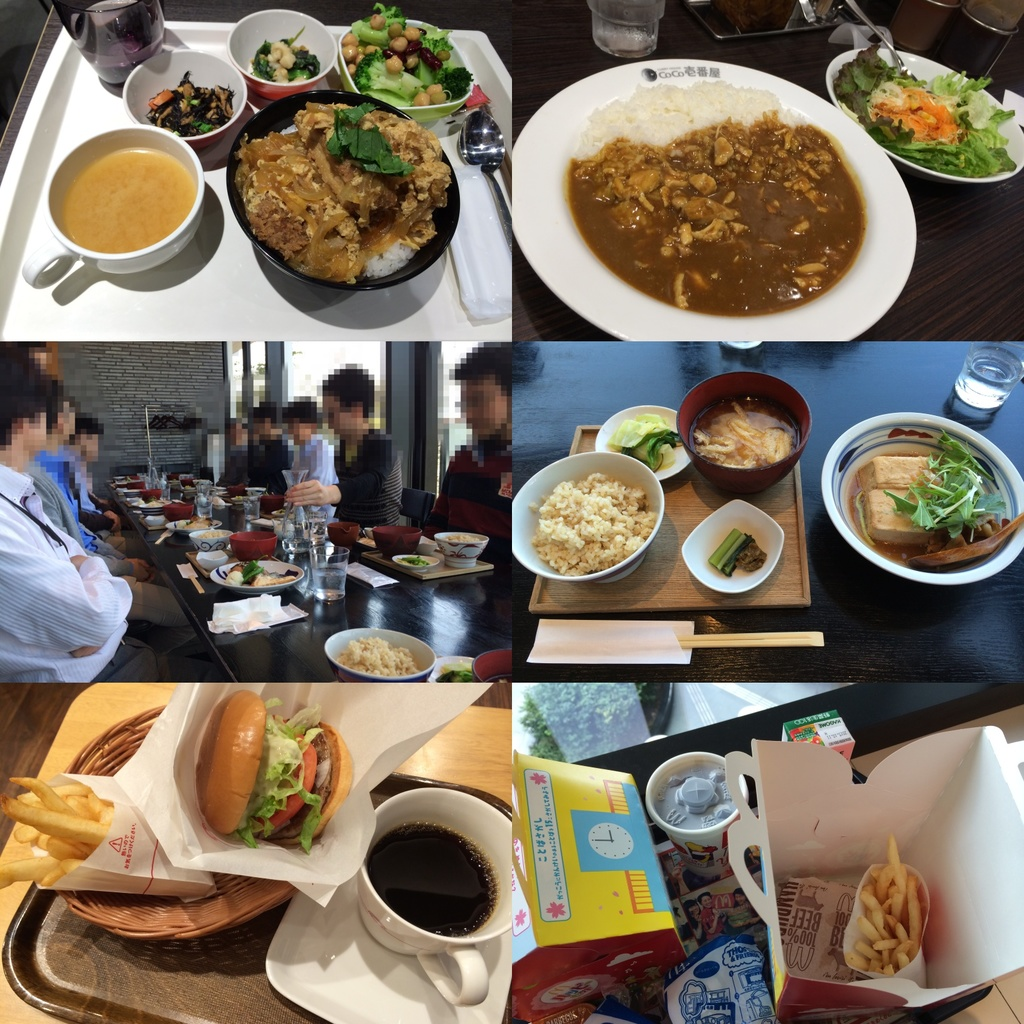sandwich: (194, 689, 348, 851)
